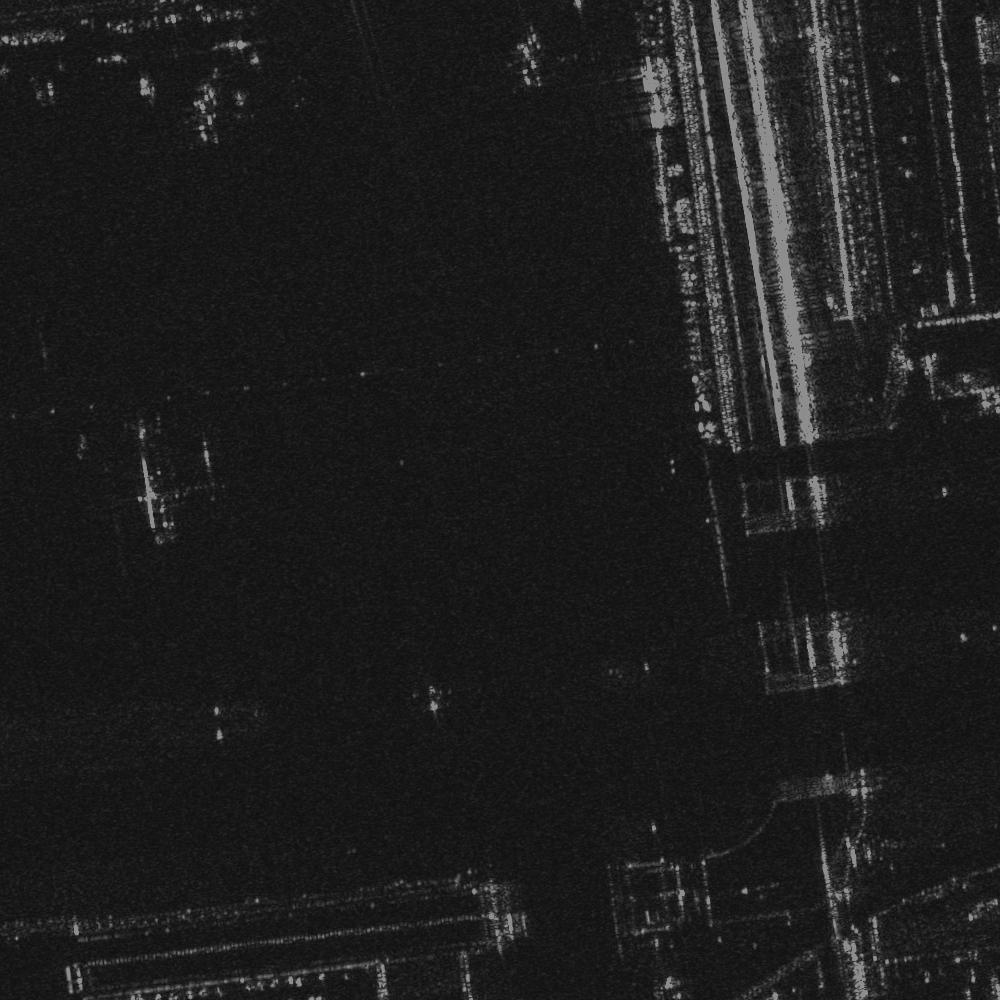A220: (165, 66, 248, 145)
A320/321: (498, 29, 564, 93)
